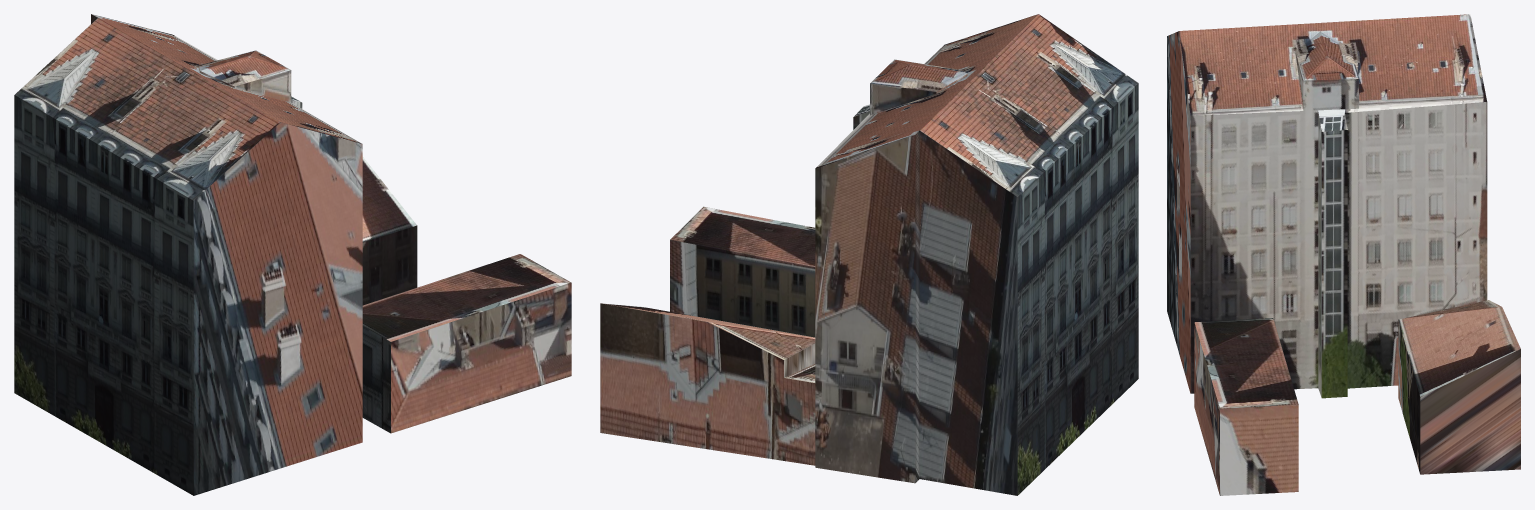
3 renders of one model, left to right at view 1: azimuth 30°, elevation 25°; view 2: azimuth 150°, elevation 25°; view 3: azimuth 270°, elevation 25°, orthographic. The views are drawn at different scales.
Parts seen in each view (by area): view 1: Z_UP; view 2: Z_UP; view 3: Z_UP.
Boxes of the visible parts, x1,y1,x2,y2 form: Z_UP: (14, 14, 571, 495); Z_UP: (600, 14, 1138, 495); Z_UP: (1167, 14, 1520, 495).
Bounding box in the file's own units: 38.16 × 29.17 × 28.82.
2 materials, 1 textured.
